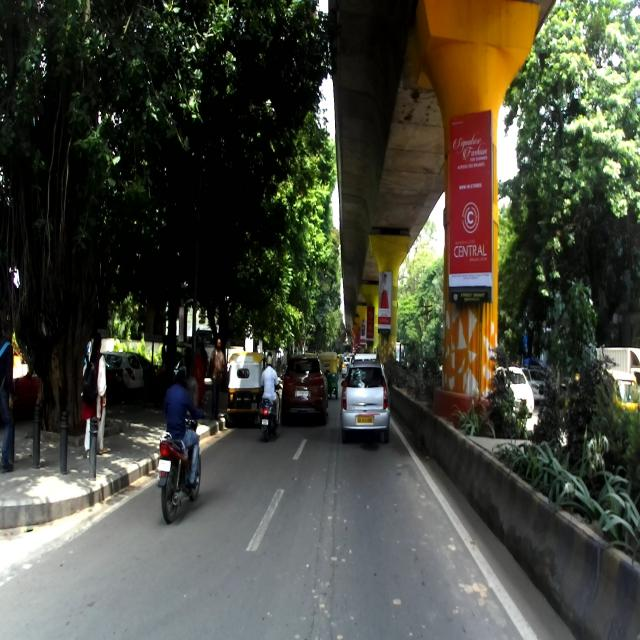Car_Hyundai: (280, 348, 330, 425)
Car_TATA: (340, 353, 392, 444)
autorickshaw: (226, 352, 266, 427)
motorcycle: (156, 406, 208, 523)
scooter: (258, 374, 282, 442)
